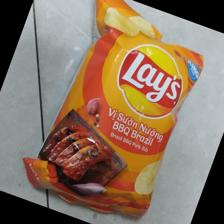Lays: (20, 1, 205, 219)
